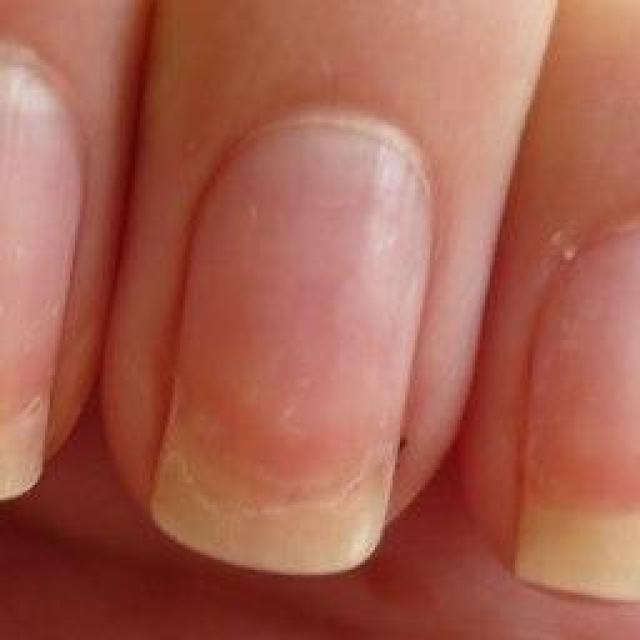Nail: (152, 130, 433, 577), (514, 229, 640, 598), (3, 41, 90, 498)
